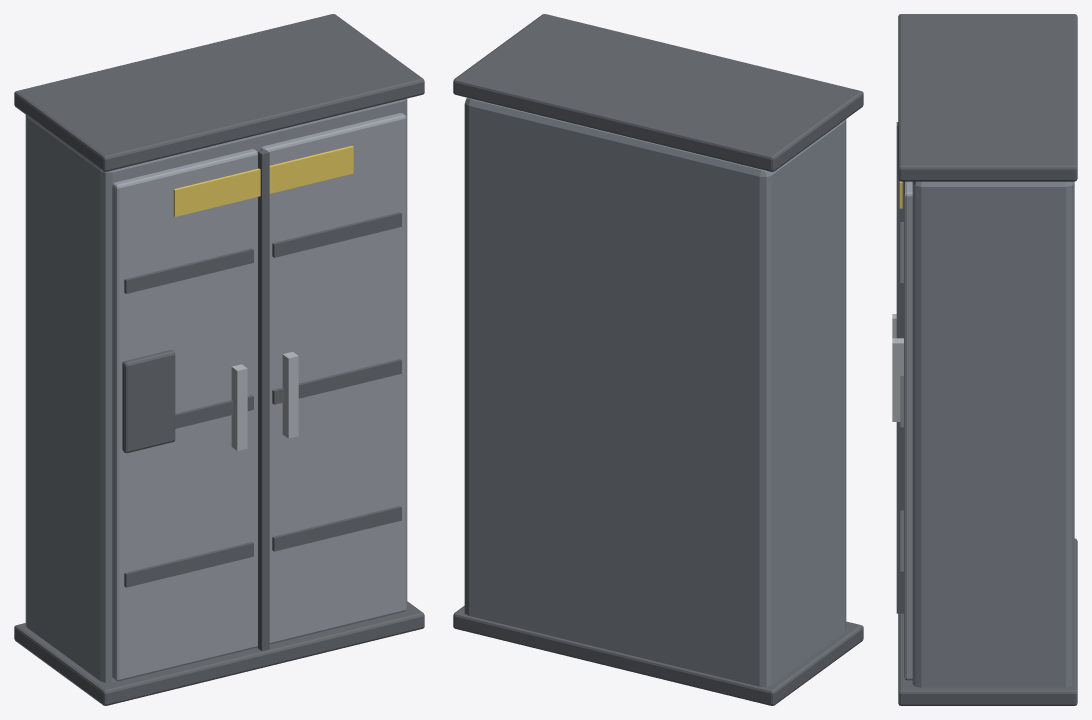
Rendered from obj_locker.fbx.
3 renders of one model, left to right at view 1: azimuth 30°, elevation 25°; view 2: azimuth 150°, elevation 25°; view 3: azimuth 270°, elevation 25°, orthographic.
Visible parts, largest first — view 1: obj_locker; view 2: obj_locker; view 3: obj_locker.
Boxes of the visible parts, x1,y1,x2,y2 form: obj_locker: [14, 14, 424, 705]; obj_locker: [453, 14, 863, 705]; obj_locker: [892, 14, 1077, 705].
Bounding box in the file's own units: 1.26 × 2.06 × 0.64.
